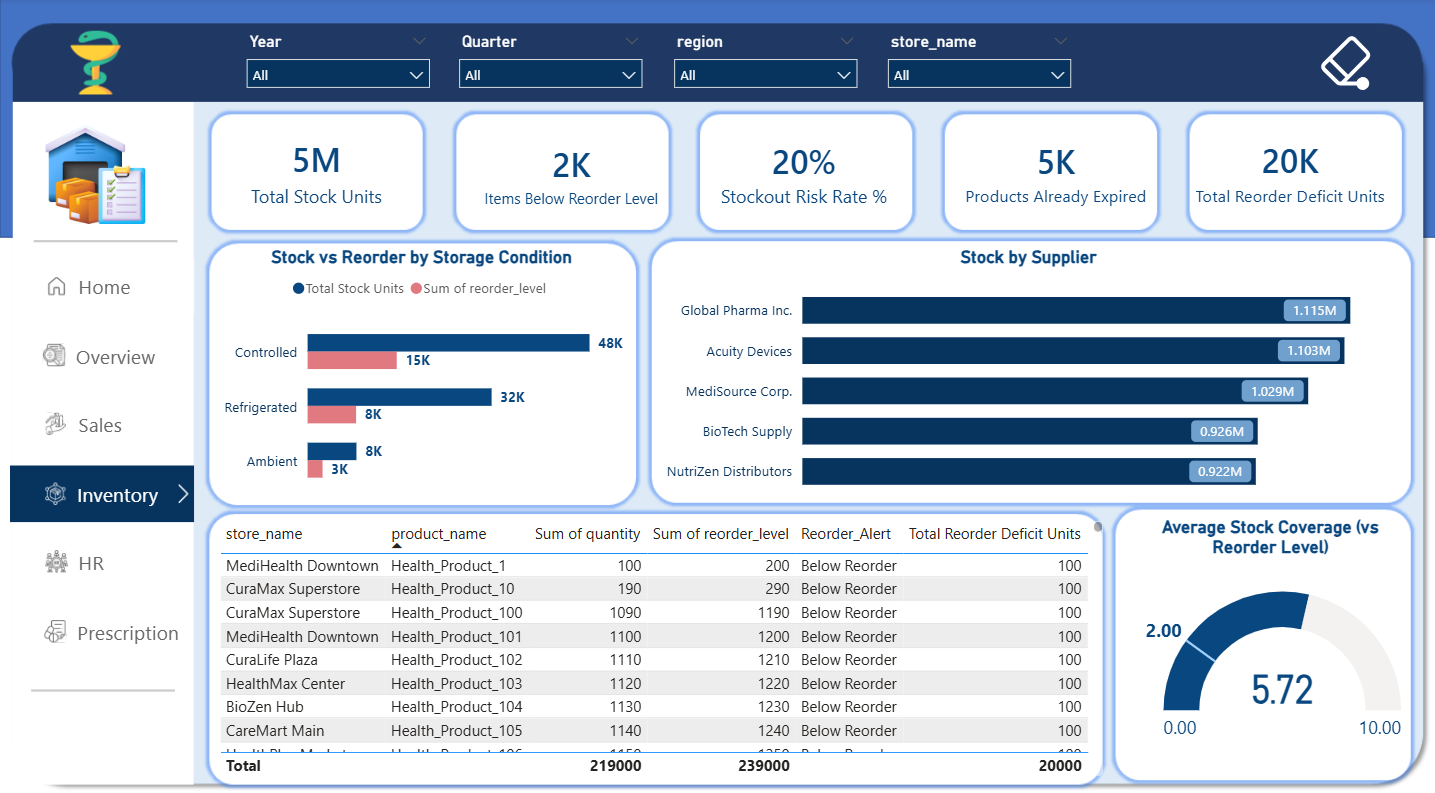

Layout of this report page (visuals, bound fields, positions):
{"tool":"powerbi","page":{"name":"Supply Chain","canvas":[1280,720],"ordinal":3},"visuals":[{"type":"cardVisual","fields":{"Data":["INVENTORY KPIs.Total Stock Units"]},"box":[189.9,102.8,183.4,105.4],"z":0},{"type":"actionButton","title":"Button inv active","box":[9.1,416.2,163.9,50.7],"z":0,"group":"g1"},{"type":"cardVisual","fields":{"Data":["INVENTORY KPIs.Items Below Reorder Level"]},"box":[392.4,104.5,234.4,104.5],"z":1000},{"type":"actionButton","box":[145.7,416.2,27.3,50.7],"z":1000,"group":"g1"},{"type":"cardVisual","fields":{"Data":["INVENTORY KPIs.Stockout Risk Rate %"]},"box":[610.2,103.2,212.7,104.5],"z":2000},{"type":"cardVisual","fields":{"Data":["INVENTORY KPIs.Products Already Expired"]},"box":[808.9,103.2,262.4,104.5],"z":3000},{"type":"cardVisual","fields":{"Data":["INVENTORY KPIs.Total Reorder Deficit Units"]},"box":[1027.6,102.8,243.3,105.4],"z":4000},{"type":"clusteredBarChart","title":"Stock vs Reorder by Storage Condition","fields":{"Category":["Products.storage_condition"],"Y":["INVENTORY KPIs.Total Stock Units","Sum(Stock.reorder_level)"]},"box":[188.6,221.1,374.6,232.8],"z":5000},{"type":"gauge","title":"Average Stock Coverage (vs Reorder Level)","fields":{"Y":["INVENTORY KPIs.Average Stock Coverage"]},"box":[1010.2,462.4,243.3,235.7],"z":6000},{"type":"tableEx","fields":{"Values":["Stores.store_name","Products.product_name","Sum(Stock.quantity)","Sum(Stock.reorder_level)","Stock.Reorder_Alert","INVENTORY KPIs.Total Reorder Deficit Units"]},"box":[190.1,461,797.4,236.7],"z":7000},{"type":"clusteredBarChart","title":"Stock by Supplier","fields":{"Category":["Suppliers.supplier_name"],"Y":["INVENTORY KPIs.Total Stock Units"]},"box":[577.6,221.1,676.4,232.8],"z":8000},{"type":"slicer","fields":{"Values":["Date_Dim.Year"]},"box":[209.1,25.6,183.5,63.2],"z":9000},{"type":"slicer","fields":{"Values":["Date_Dim.Quarter"]},"box":[398.7,25.6,183.5,63.2],"z":10000},{"type":"slicer","fields":{"Values":["Stores.region"]},"box":[589.8,25.6,183.5,63.2],"z":11000},{"type":"slicer","fields":{"Values":["Stores.store_name"]},"box":[780.8,25.6,183.5,63.2],"z":12000},{"type":"actionButton","box":[9.5,231.2,163.3,50.3],"z":13000},{"type":"actionButton","box":[9.1,538.5,162.6,50.7],"z":14000},{"type":"actionButton","box":[7.8,292.5,163.9,50.7],"z":15000},{"type":"actionButton","box":[10.4,354.4,162.6,50.7],"z":16000},{"type":"actionButton","box":[10.4,476.7,162.6,50.7],"z":17000},{"type":"shape","box":[30.2,201,128.2,30.2],"z":19000},{"type":"image","box":[56.5,26.4,56.5,61.6],"z":20000},{"type":"group","id":"g1","title":"Group 3","box":[9.1,416.2,163.9,50.7],"z":22000},{"type":"shape","box":[27.5,601.8,128.3,29],"z":26000},{"type":"image","box":[1171.5,25.3,55.5,62.7],"z":27000},{"type":"image","box":[38.8,112.5,91.2,88.8],"z":28000}]}

Visuals, with their boxes on the page's 1280x720 design canvas (x1, y1, x2, y2). These are canvas units, not pixel positions in the 1435x793 screenshot, which may show the page scaled, cropped or inside an application window:
cardVisual - INVENTORY KPIs.Total Stock Units: [190, 103, 373, 208]
"Button inv active" actionButton: [9, 416, 173, 467]
cardVisual - INVENTORY KPIs.Items Below Reorder Level: [392, 104, 627, 209]
actionButton: [146, 416, 173, 467]
cardVisual - INVENTORY KPIs.Stockout Risk Rate %: [610, 103, 823, 208]
cardVisual - INVENTORY KPIs.Products Already Expired: [809, 103, 1071, 208]
cardVisual - INVENTORY KPIs.Total Reorder Deficit Units: [1028, 103, 1271, 208]
"Stock vs Reorder by Storage Condition" clusteredBarChart: [189, 221, 563, 454]
"Average Stock Coverage (vs Reorder Level)" gauge: [1010, 462, 1254, 698]
tableEx - Stores.store_name x Products.product_name: [190, 461, 988, 698]
"Stock by Supplier" clusteredBarChart: [578, 221, 1254, 454]
slicer - Date_Dim.Year: [209, 26, 393, 89]
slicer - Date_Dim.Quarter: [399, 26, 582, 89]
slicer - Stores.region: [590, 26, 773, 89]
slicer - Stores.store_name: [781, 26, 964, 89]
actionButton: [10, 231, 173, 282]
actionButton: [9, 538, 172, 589]
actionButton: [8, 292, 172, 343]
actionButton: [10, 354, 173, 405]
actionButton: [10, 477, 173, 527]
shape: [30, 201, 158, 231]
image: [56, 26, 113, 88]
"Group 3" group: [9, 416, 173, 467]
shape: [28, 602, 156, 631]
image: [1172, 25, 1227, 88]
image: [39, 112, 130, 201]
